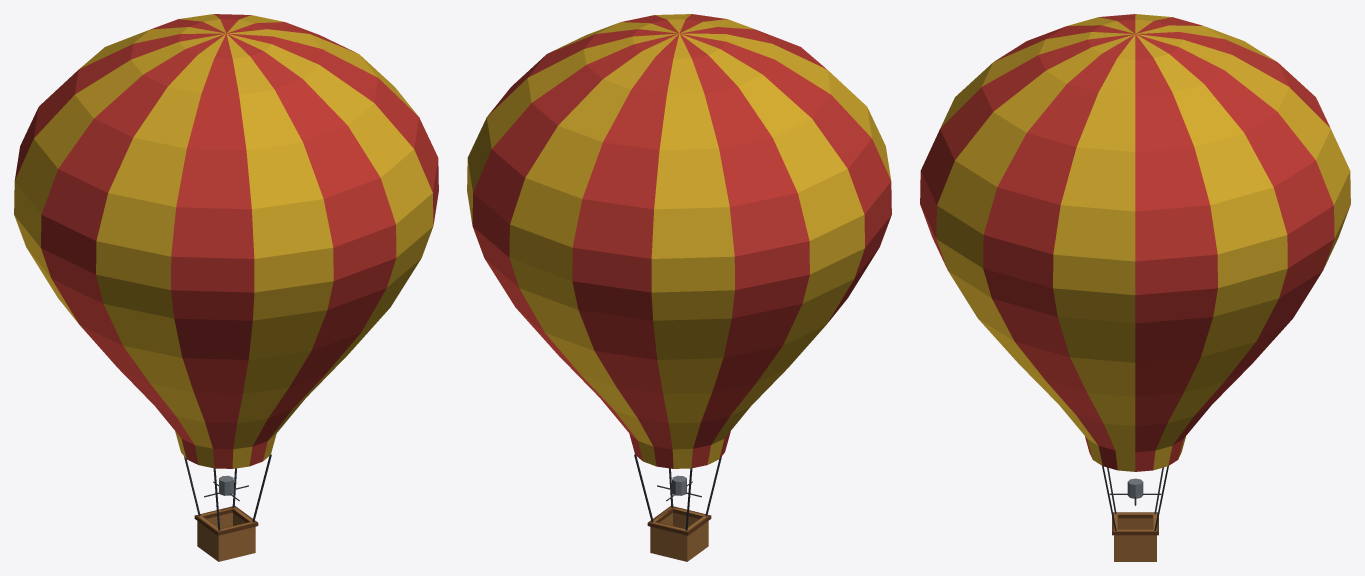
Rendered from hotair-red.glb.
3 renders of one model, left to right at view 1: azimuth 30°, elevation 25°; view 2: azimuth 150°, elevation 25°; view 3: azimuth 270°, elevation 25°, orthographic.
Parts seen in each view (by area): view 1: hotair-red; view 2: hotair-red; view 3: hotair-red.
Part boxes in pixels (x1,y1,x2,y2): hotair-red: (14,14,438,561); hotair-red: (467,14,891,561); hotair-red: (920,14,1350,561).
Size of the model in its own units: 14 by 18.6 by 14.
